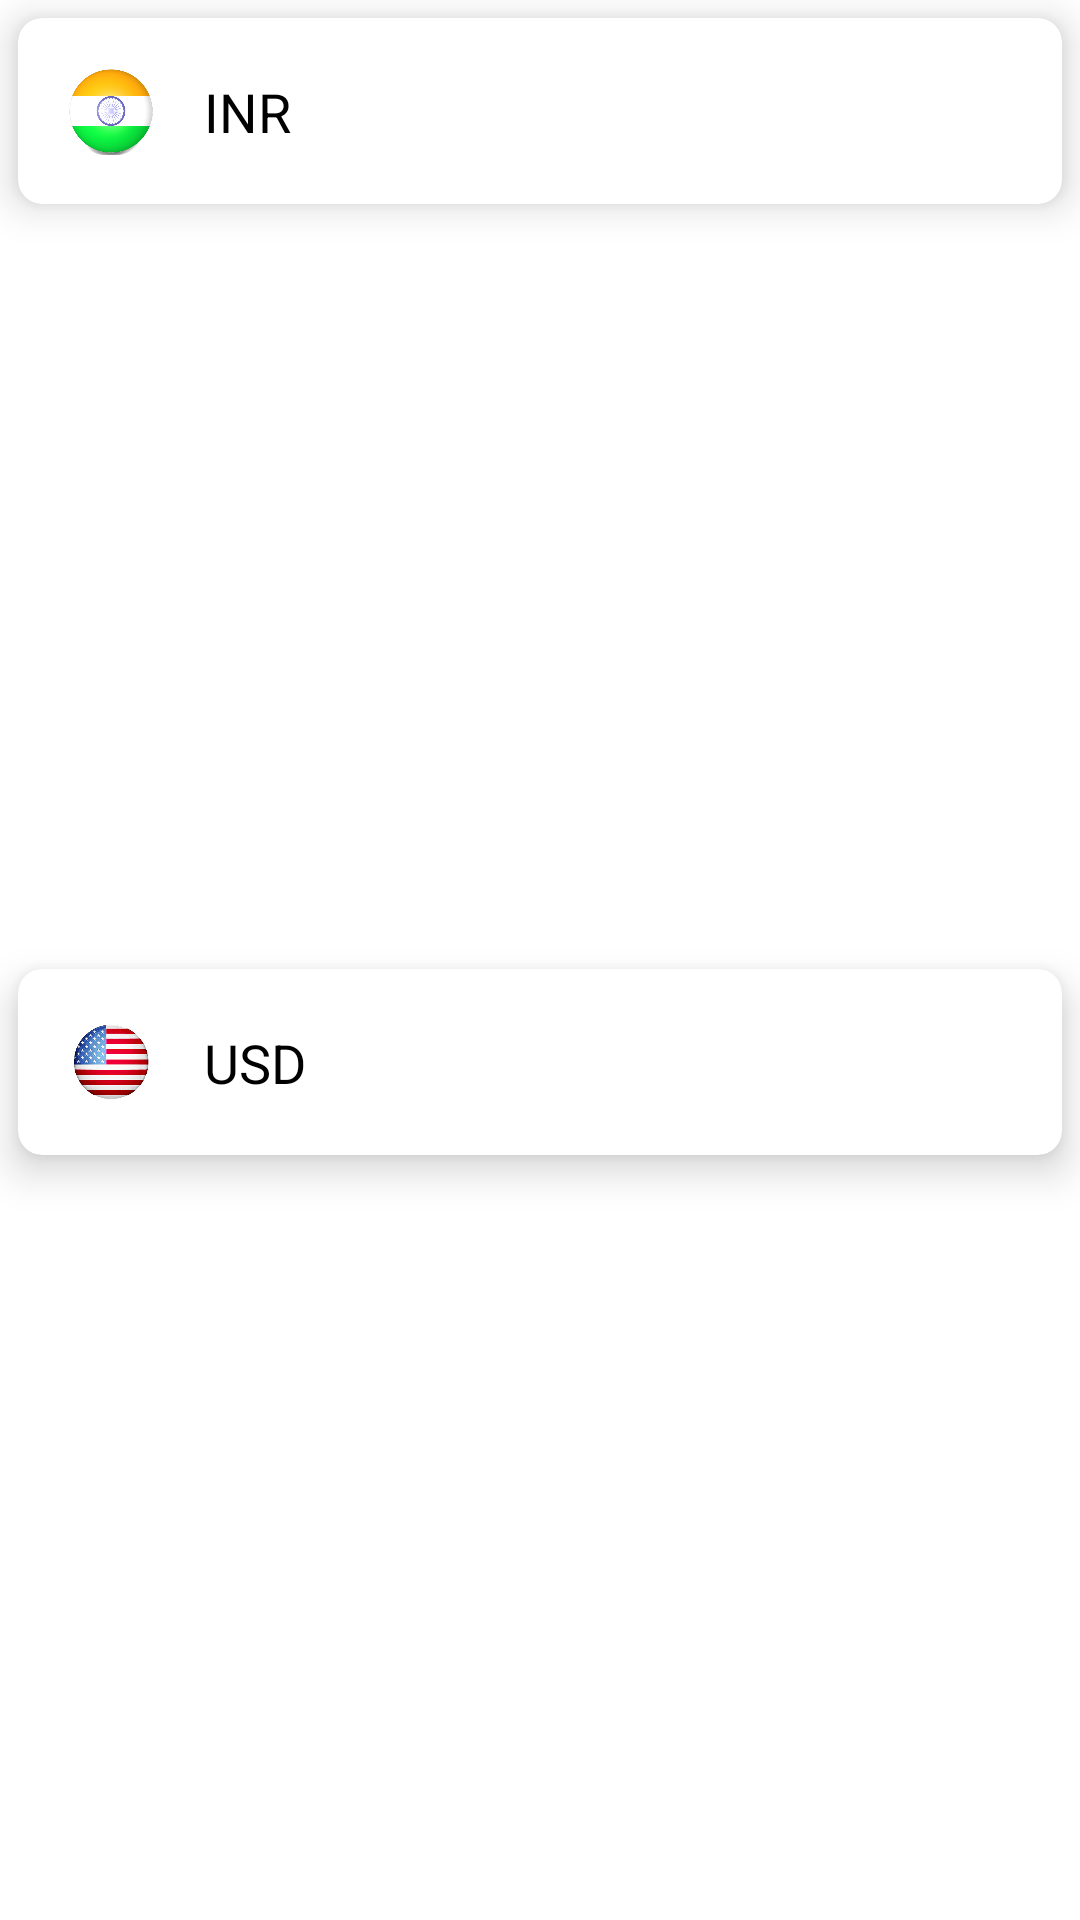

Named icons in this screenshot (1080*1920) and their bounding boxes, (x1, y1, x2, y2):
indianflag: (69, 69, 153, 155)
usa: (74, 1025, 149, 1099)
